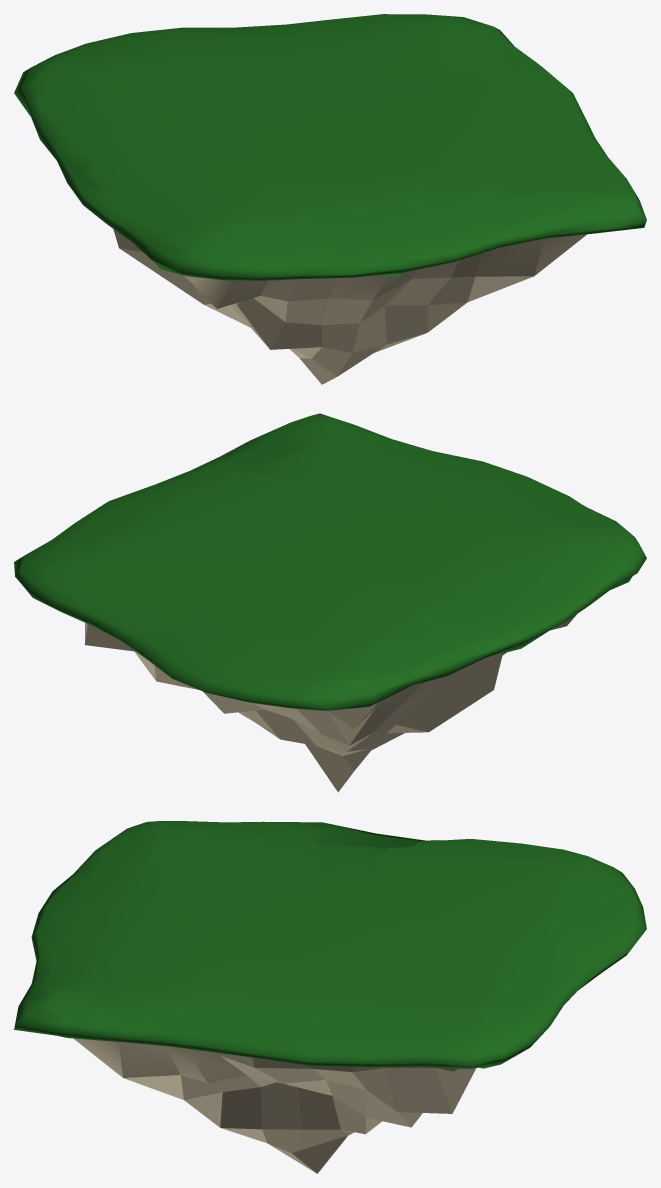
The model's file is m_island_new.fbx.
3 renders of one model, top to bottom at view 1: azimuth 30°, elevation 25°; view 2: azimuth 150°, elevation 25°; view 3: azimuth 270°, elevation 25°, orthographic. The views are drawn at different scales.
Parts seen in each view (by area): view 1: polySurface406; view 2: polySurface406; view 3: polySurface406.
Part boxes in pixels (box(x1,y1,x2,y2)): polySurface406: box(14, 14, 646, 384); polySurface406: box(14, 413, 646, 792); polySurface406: box(14, 821, 646, 1173).
Size of the model in its own units: 153 by 76.71 by 171.
